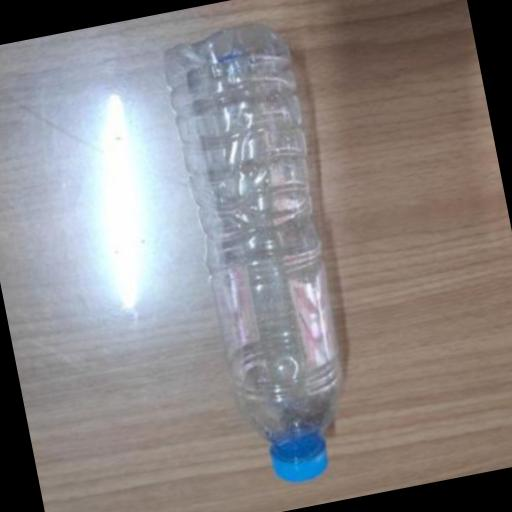Coca: (146, 7, 392, 508)
